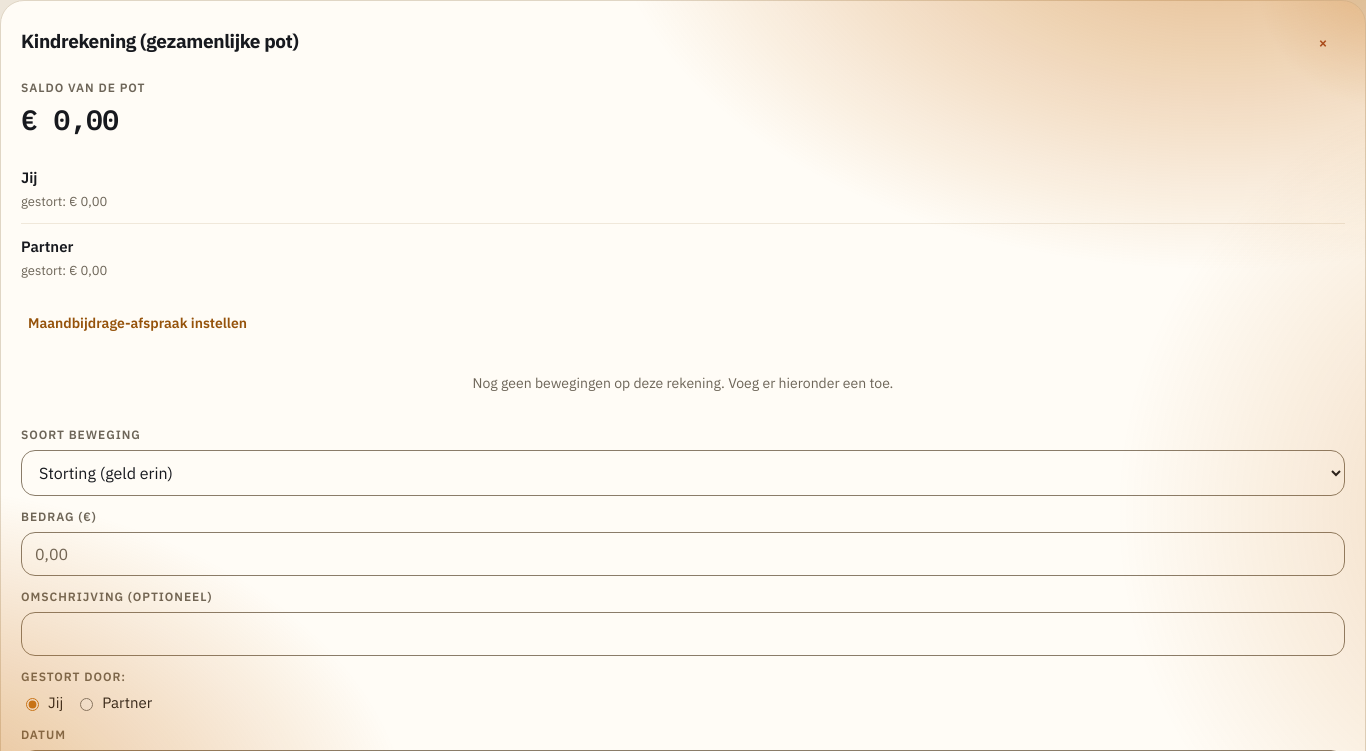
KindrekeningSectie — de indexcijfers › weigert onleesbare invoer in plaats van ze stil weg te gooien
The width and height of the screenshot is (1366, 751).
Click the button "Maandbijdrage-afspraak instellen" at (137,323), box [21, 306, 254, 341]
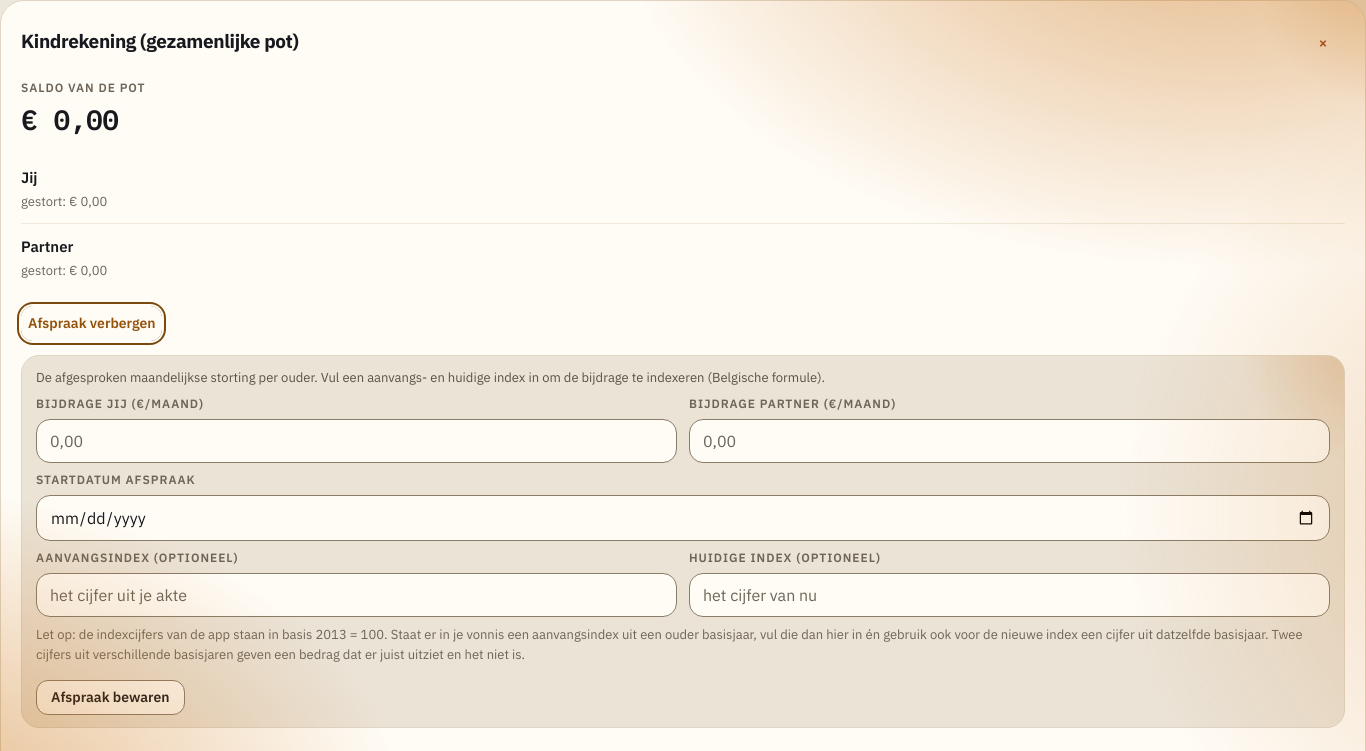
Type "honderd" into the field labelled "Aanvangsindex (optioneel)" at (356,595), box [36, 573, 677, 617]
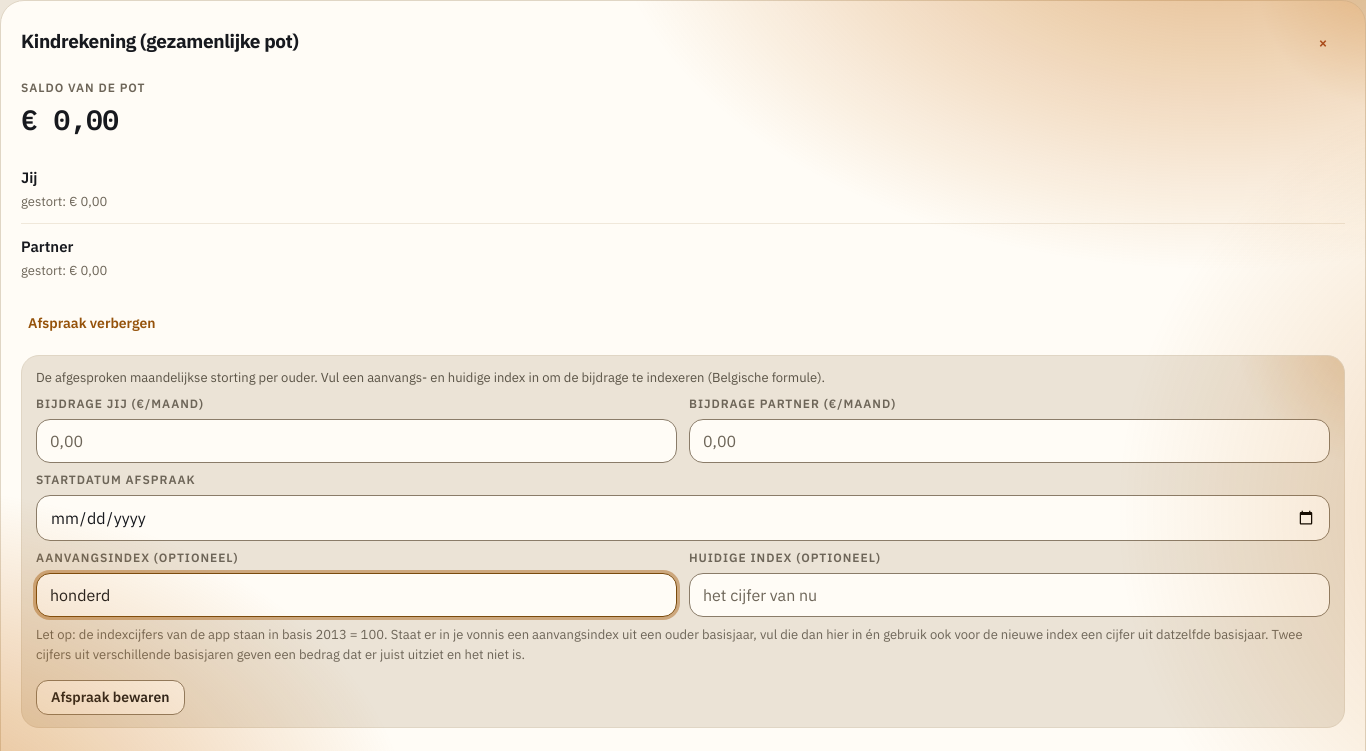
Click the button "Afspraak bewaren" at (110,698), box [36, 680, 185, 715]
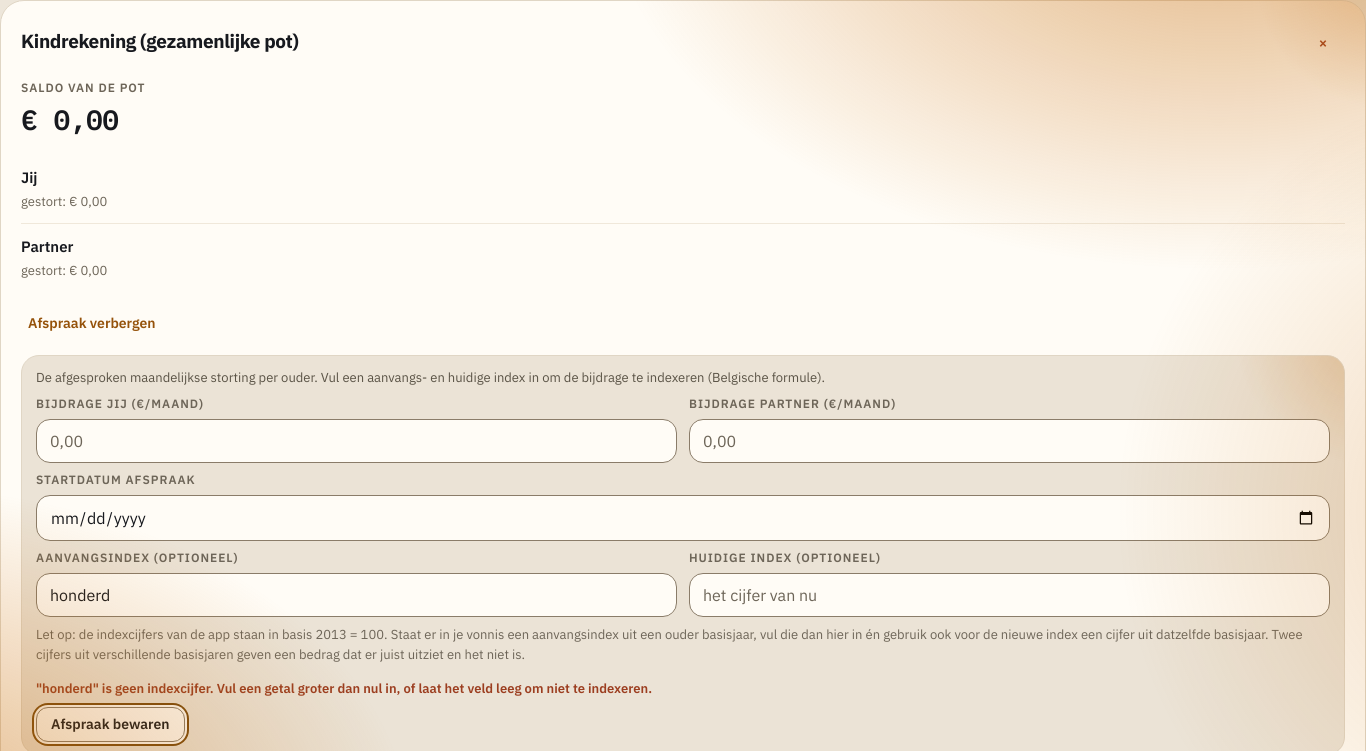
Result: the message shows "geen indexcijfer" at [36, 680, 652, 697]
